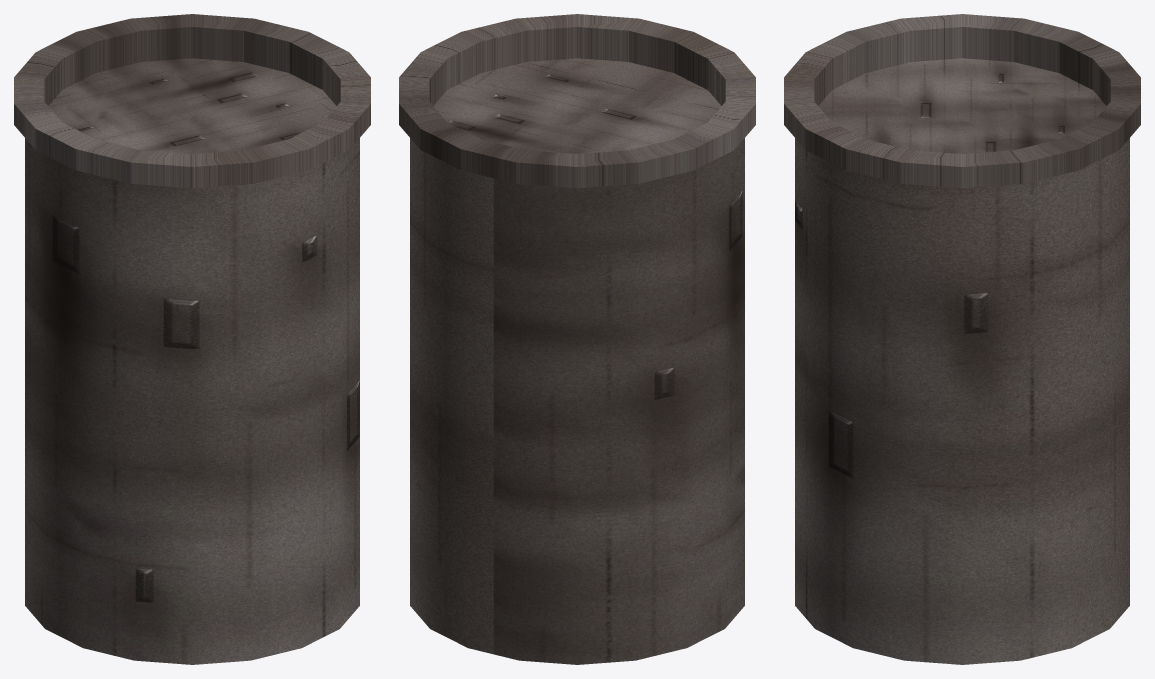
The model's file is Barrell.FBX.
The picture shows the model from 3 angles, left to right: view 1: azimuth 30°, elevation 25°; view 2: azimuth 150°, elevation 25°; view 3: azimuth 270°, elevation 25°; orthographic projection.
Parts seen in each view (by area): view 1: Cylinder08; view 2: Cylinder08; view 3: Cylinder08.
Boxes of the visible parts, x1,y1,x2,y2 form: Cylinder08: (14,14,370,664); Cylinder08: (399,14,755,664); Cylinder08: (784,14,1140,664).
Bounding box in the file's own units: 1.78 × 2.73 × 1.75.
